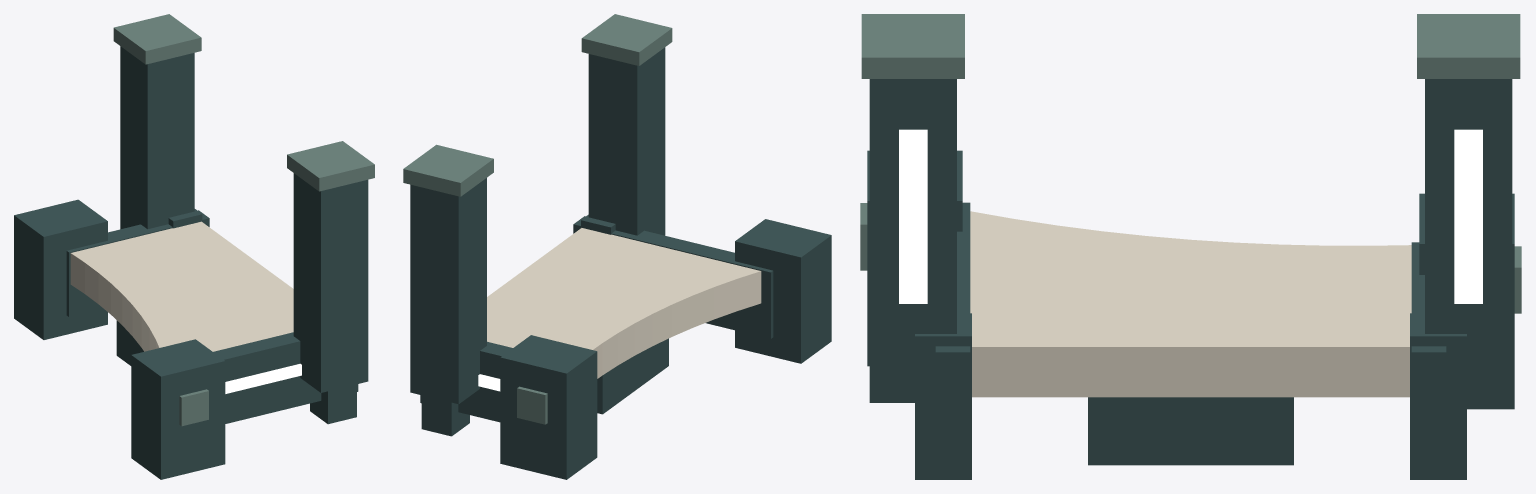
The model's file is Pier_Angled_10_Switch_lab.glb.
The picture shows the model from 3 angles, left to right: view 1: azimuth 30°, elevation 25°; view 2: azimuth 150°, elevation 25°; view 3: azimuth 270°, elevation 25°; orthographic projection. The views are drawn at different scales.
Visible parts, largest first — view 1: Pier_Angled_10_Switch; view 2: Pier_Angled_10_Switch; view 3: Pier_Angled_10_Switch.
Part boxes in pixels (x1,y1,x2,y2): Pier_Angled_10_Switch: (14,14,374,479); Pier_Angled_10_Switch: (403,14,831,479); Pier_Angled_10_Switch: (860,14,1521,479).
Size of the model in its own units: 2.55 by 2.95 by 4.17.
